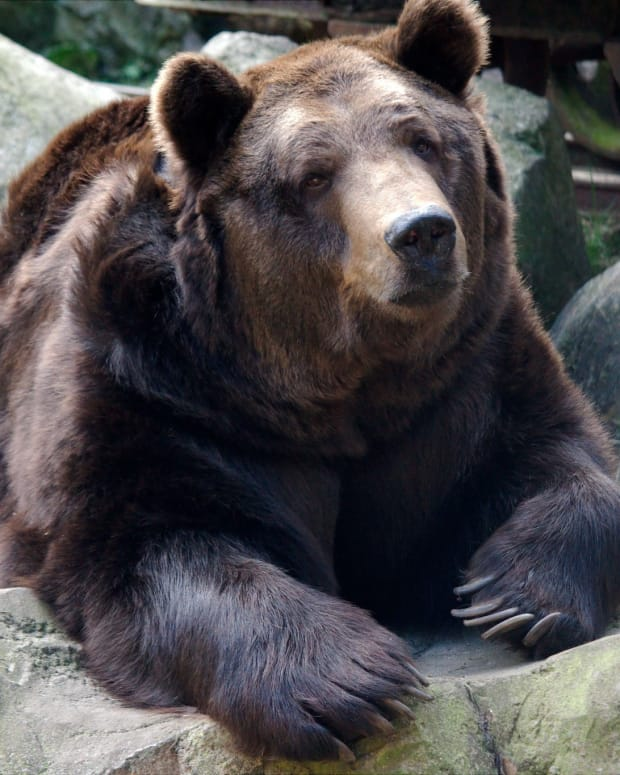bear: (142, 1, 500, 329)
